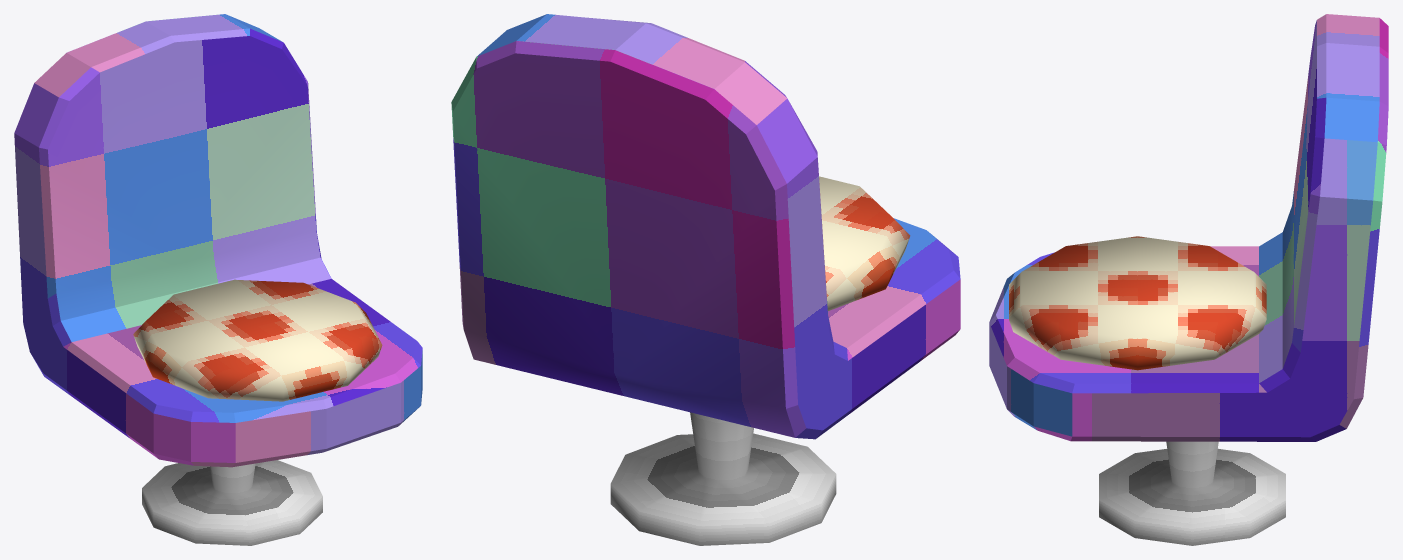
The model's file is rmk_dot_chairS_mtl.dae.
The picture shows the model from 3 angles, left to right: view 1: azimuth 30°, elevation 25°; view 2: azimuth 150°, elevation 25°; view 3: azimuth 270°, elevation 25°; orthographic projection. The views are drawn at different scales.
Visible parts, largest first — view 1: rmk_dot_chairS_mtl; view 2: rmk_dot_chairS_mtl; view 3: rmk_dot_chairS_mtl.
Boxes of the visible parts, <box> form: rmk_dot_chairS_mtl: <box>14,14,422,545</box>; rmk_dot_chairS_mtl: <box>451,14,960,545</box>; rmk_dot_chairS_mtl: <box>989,14,1388,545</box>.
Size of the model in its own units: 24 by 36.4 by 28.55.
Materials: 3 (3 with a texture image).
